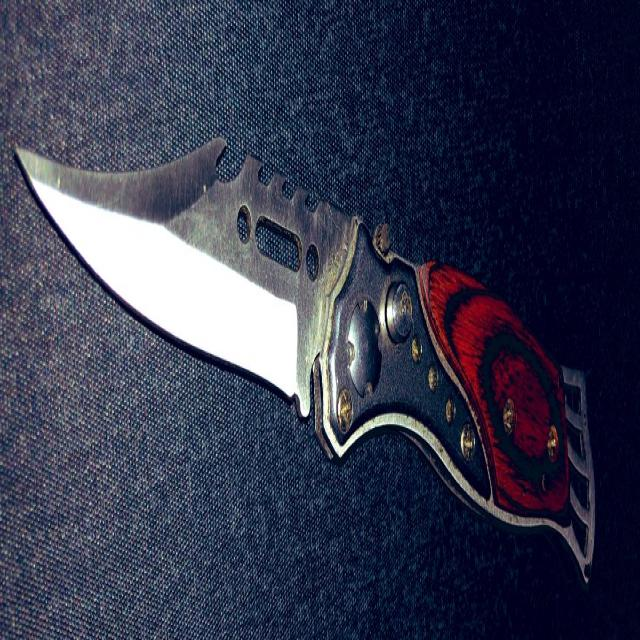Sharp-Object: (15, 131, 598, 587)
